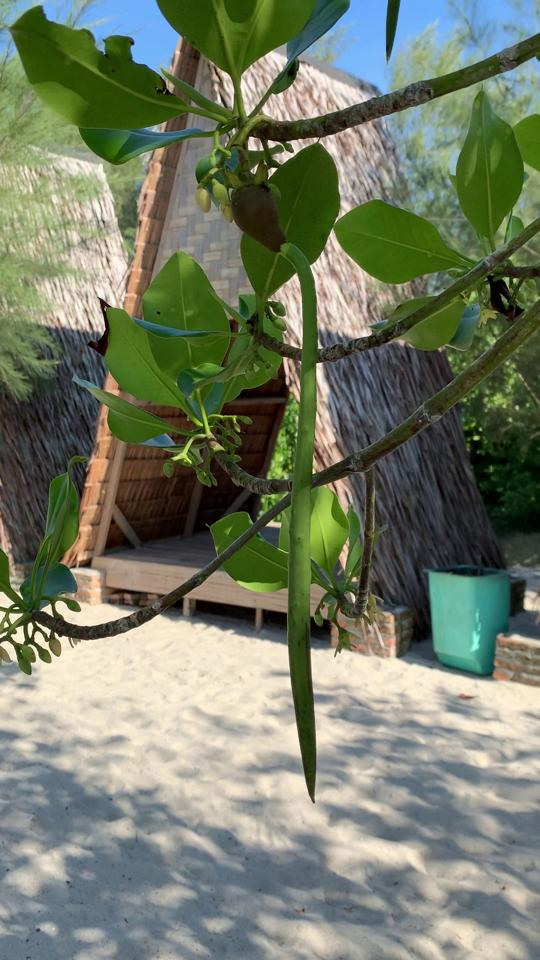setengah matang: (215, 166, 333, 814)
